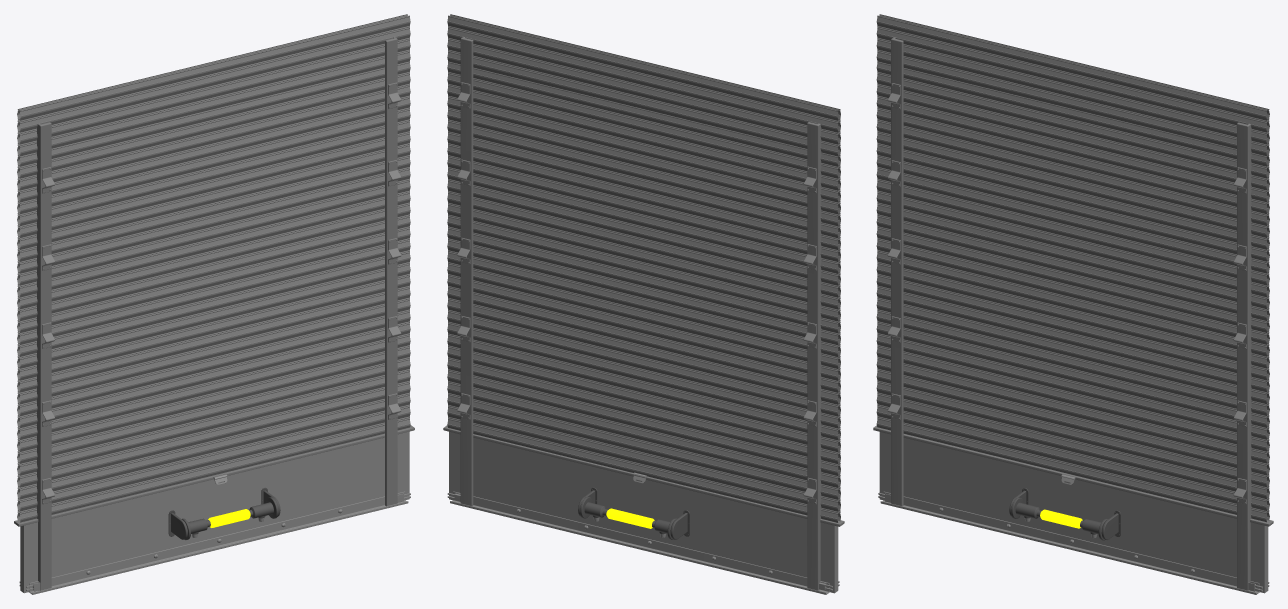
The model's file is Crash_Gate.glb.
3 views of the same model, side by side, from view 1: azimuth 30°, elevation 25°; view 2: azimuth 150°, elevation 25°; view 3: azimuth 330°, elevation 25° (orthographic).
Visible parts, largest first — view 1: SM_SlamDoor.004, SM_PullDoorFrame.004, SM_SlamDoorHandle.004; view 2: SM_SlamDoor.004, SM_PullDoorFrame.004, SM_SlamDoorHandle.004; view 3: SM_SlamDoor.004, SM_PullDoorFrame.004, SM_SlamDoorHandle.004.
Part boxes in pixels (x1=…): SM_SlamDoor.004: x1=14, y1=14, x2=414, y2=594; SM_PullDoorFrame.004: x1=37, y1=36, x2=401, y2=590; SM_SlamDoorHandle.004: x1=168, y1=487, x2=280, y2=540; SM_SlamDoor.004: x1=443, y1=14, x2=844, y2=594; SM_PullDoorFrame.004: x1=457, y1=36, x2=821, y2=590; SM_SlamDoorHandle.004: x1=578, y1=487, x2=689, y2=539; SM_SlamDoor.004: x1=873, y1=14, x2=1273, y2=594; SM_PullDoorFrame.004: x1=887, y1=37, x2=1251, y2=590; SM_SlamDoorHandle.004: x1=1009, y1=488, x2=1120, y2=540.
Bounding box in the file's own units: 4.43 × 5.16 × 0.7175.
5 materials, 1 textured.
